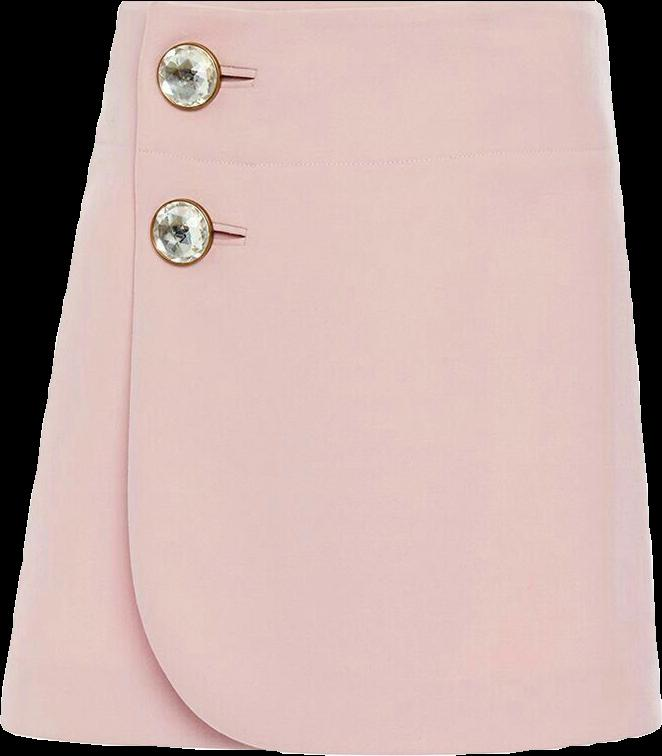Hemline: (118, 12, 661, 755), (0, 718, 661, 753)
Waistline: (115, 0, 609, 18)
